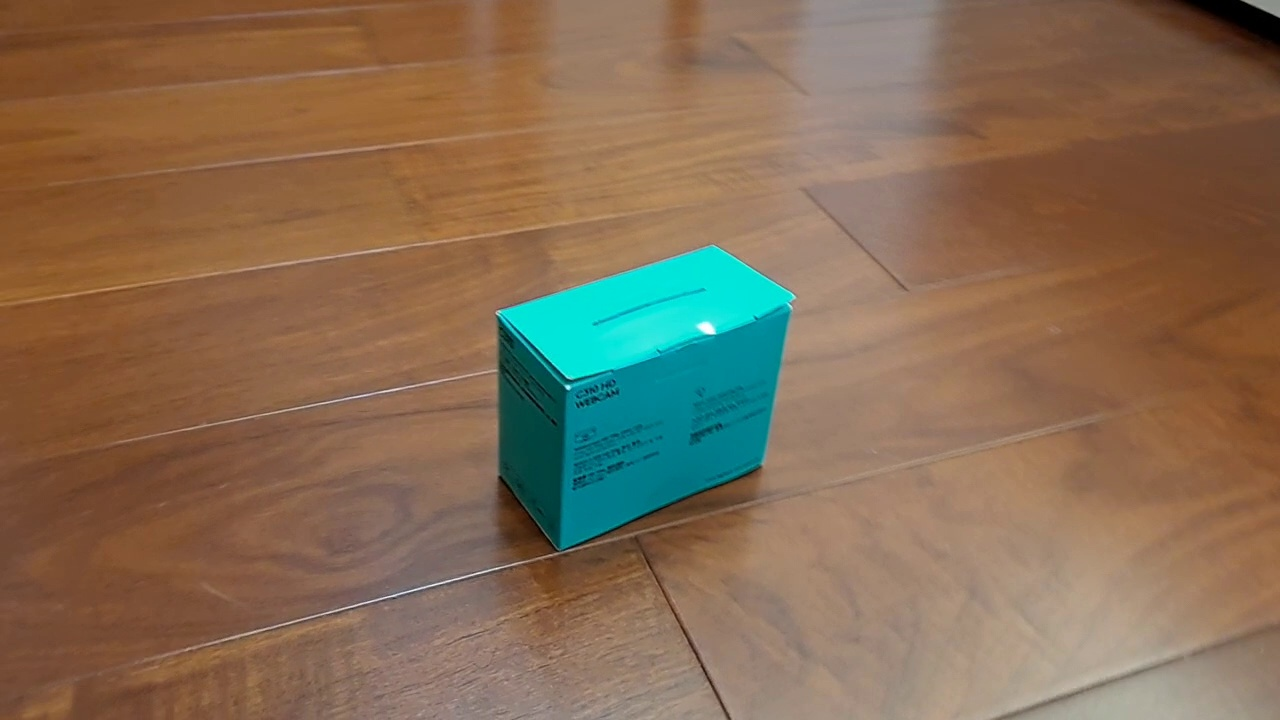webcam: (493, 242, 798, 554)
